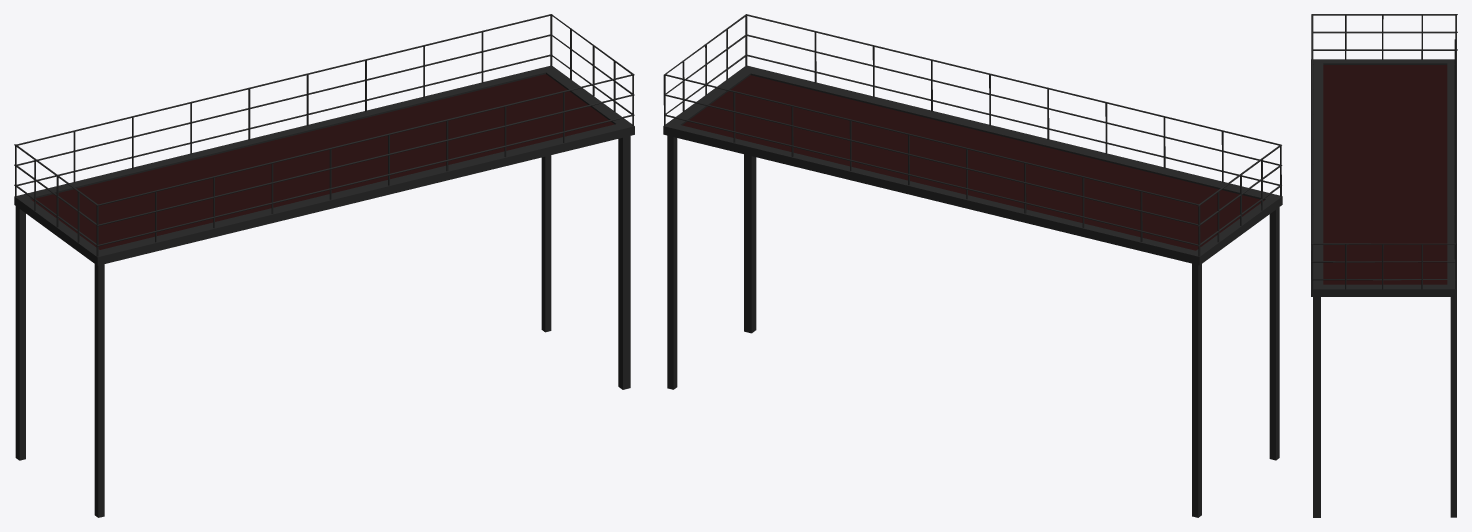
The model's file is TRAY_PLATFORM_LOWER_1_V3.FBX.
3 views of the same model, side by side, from view 1: azimuth 30°, elevation 25°; view 2: azimuth 150°, elevation 25°; view 3: azimuth 270°, elevation 25° (orthographic). The views are drawn at different scales.
Parts seen in each view (by area): view 1: Group003, Plane007; view 2: Group003, Plane007; view 3: Plane007, Group003.
Part boxes in pixels (x1=…): Group003: x1=14, y1=14, x2=634, y2=517; Plane007: x1=31, y1=74, x2=614, y2=249; Group003: x1=663, y1=14, x2=1282, y2=517; Plane007: x1=682, y1=75, x2=1264, y2=250; Plane007: x1=1323, y1=65, x2=1447, y2=284; Group003: x1=1311, y1=14, x2=1457, y2=517.
Bounding box in the file's own units: 378 × 211 × 102.
